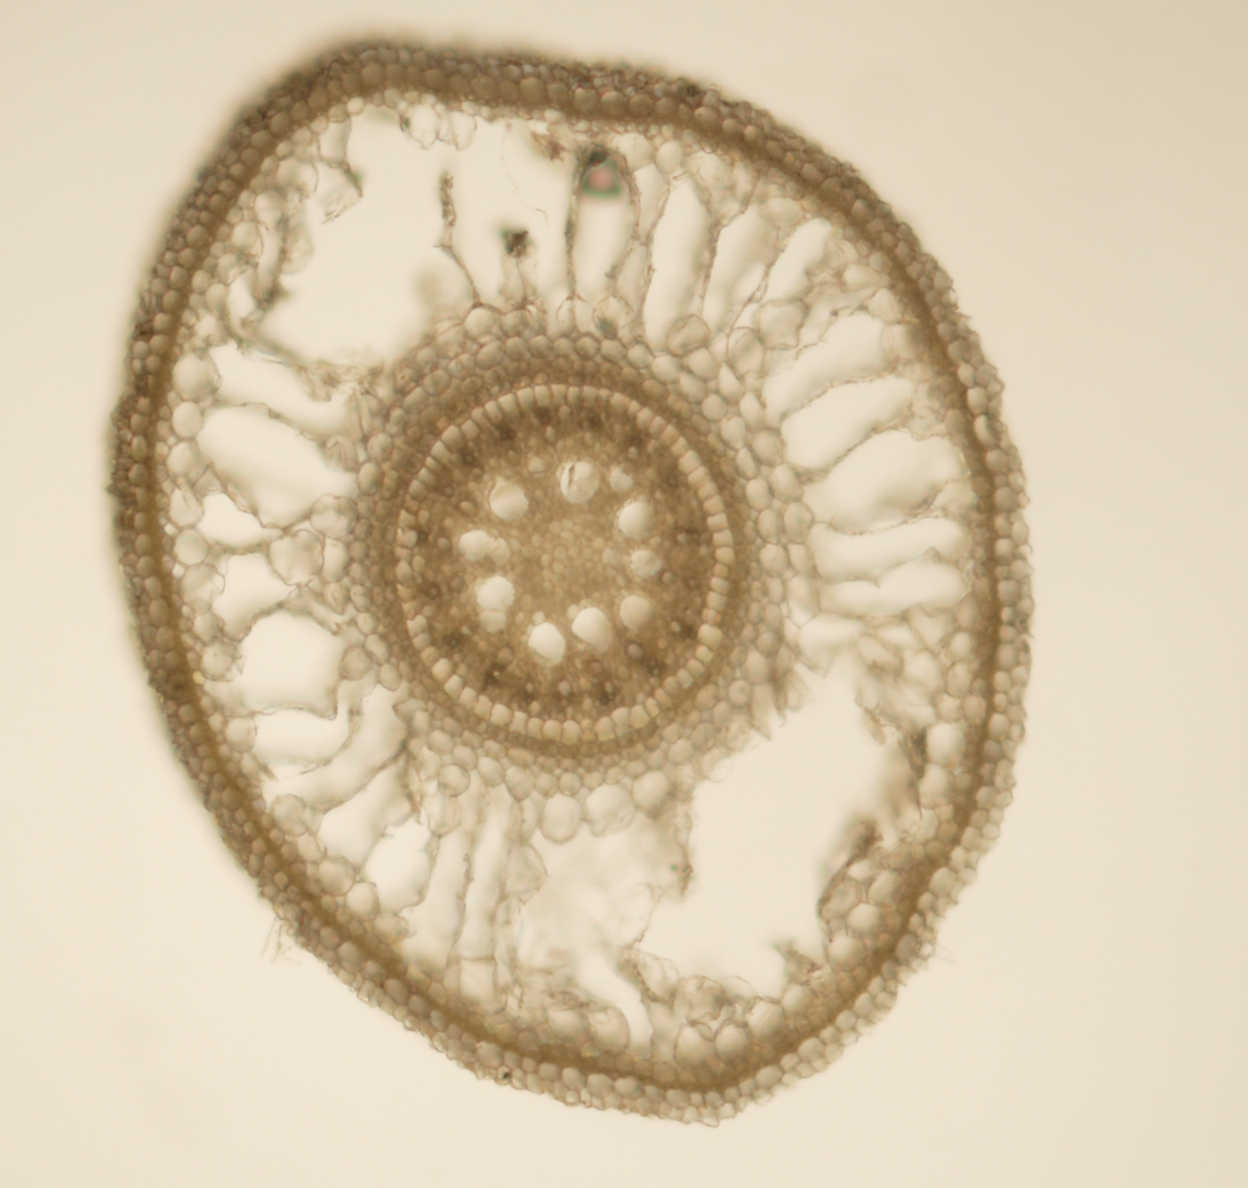lm: (476, 575, 515, 634), (458, 529, 510, 566), (572, 607, 612, 653), (557, 461, 599, 503), (528, 622, 565, 665), (489, 480, 528, 520), (618, 499, 657, 539), (620, 595, 655, 633), (628, 548, 663, 578), (608, 467, 634, 494)
